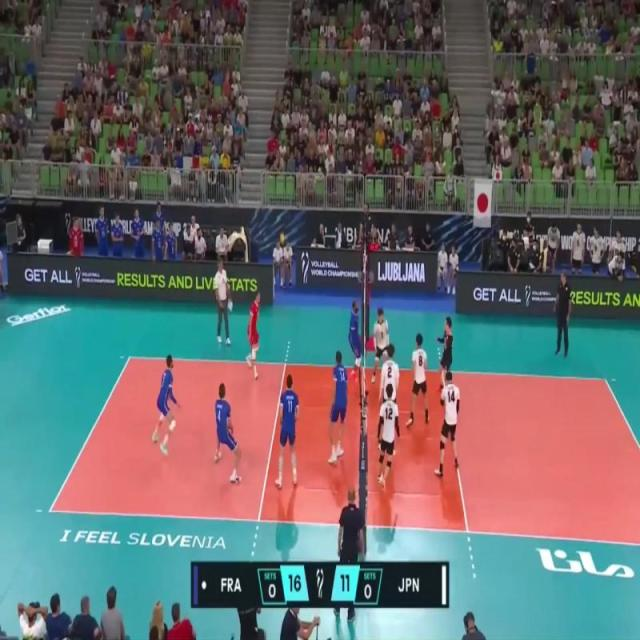volleyball: (277, 230, 288, 247)
